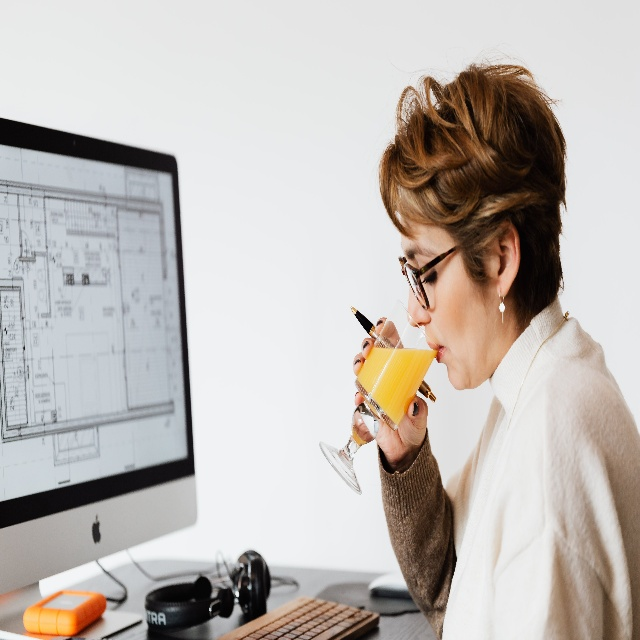Gafas: (396, 244, 460, 311)
Sin_guantes: (352, 314, 428, 466)
